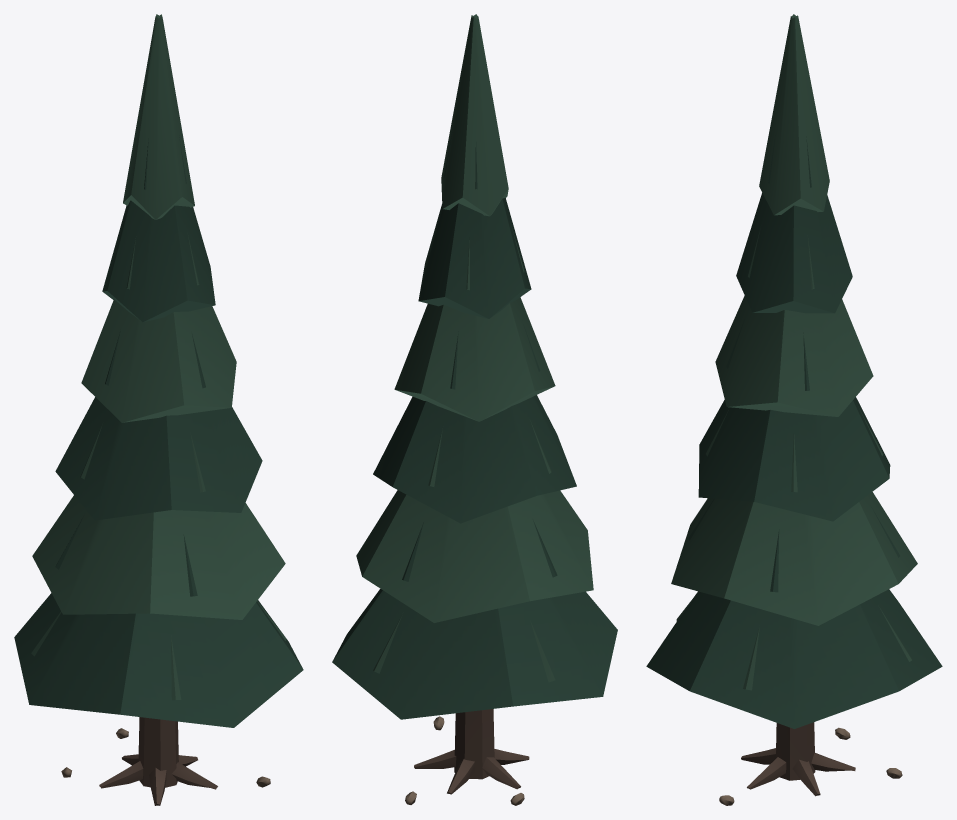
File: tree_gravepine_s3.glb
3 renders of one model, left to right at view 1: azimuth 30°, elevation 25°; view 2: azimuth 150°, elevation 25°; view 3: azimuth 270°, elevation 25°, orthographic.
Visible parts, largest first — view 1: tree_gravepine_s3; view 2: tree_gravepine_s3; view 3: tree_gravepine_s3.
Part boxes in pixels (x1,y1,x2,y2): tree_gravepine_s3: [14, 14, 303, 805]; tree_gravepine_s3: [332, 14, 617, 805]; tree_gravepine_s3: [646, 14, 942, 805].
Bounding box in the file's own units: 1.84 × 5.18 × 1.84.
